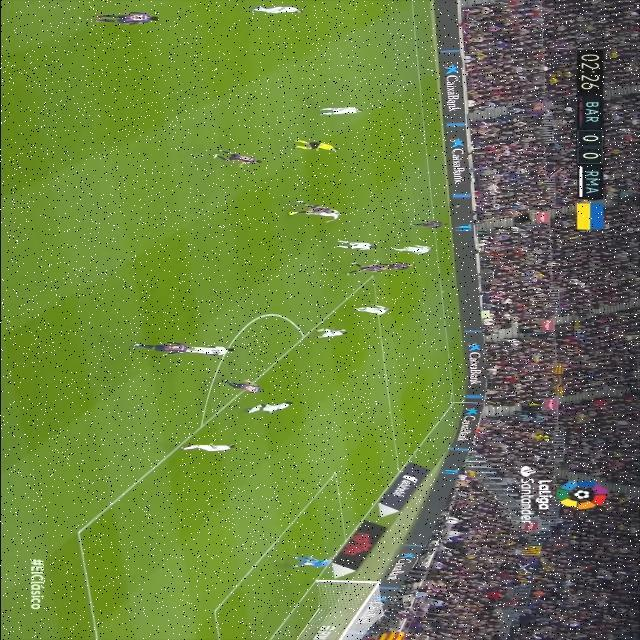goalkeeper: (261, 553, 340, 584)
player: (271, 193, 358, 229), (153, 440, 259, 462), (119, 338, 202, 366), (89, 12, 172, 38), (192, 150, 275, 174), (233, 399, 308, 425), (192, 379, 287, 398), (336, 303, 405, 325), (296, 323, 354, 349), (241, 5, 314, 24), (305, 104, 370, 125), (320, 238, 389, 257), (170, 346, 239, 365), (383, 240, 441, 262), (403, 214, 461, 230)
referee: (283, 135, 358, 166)
